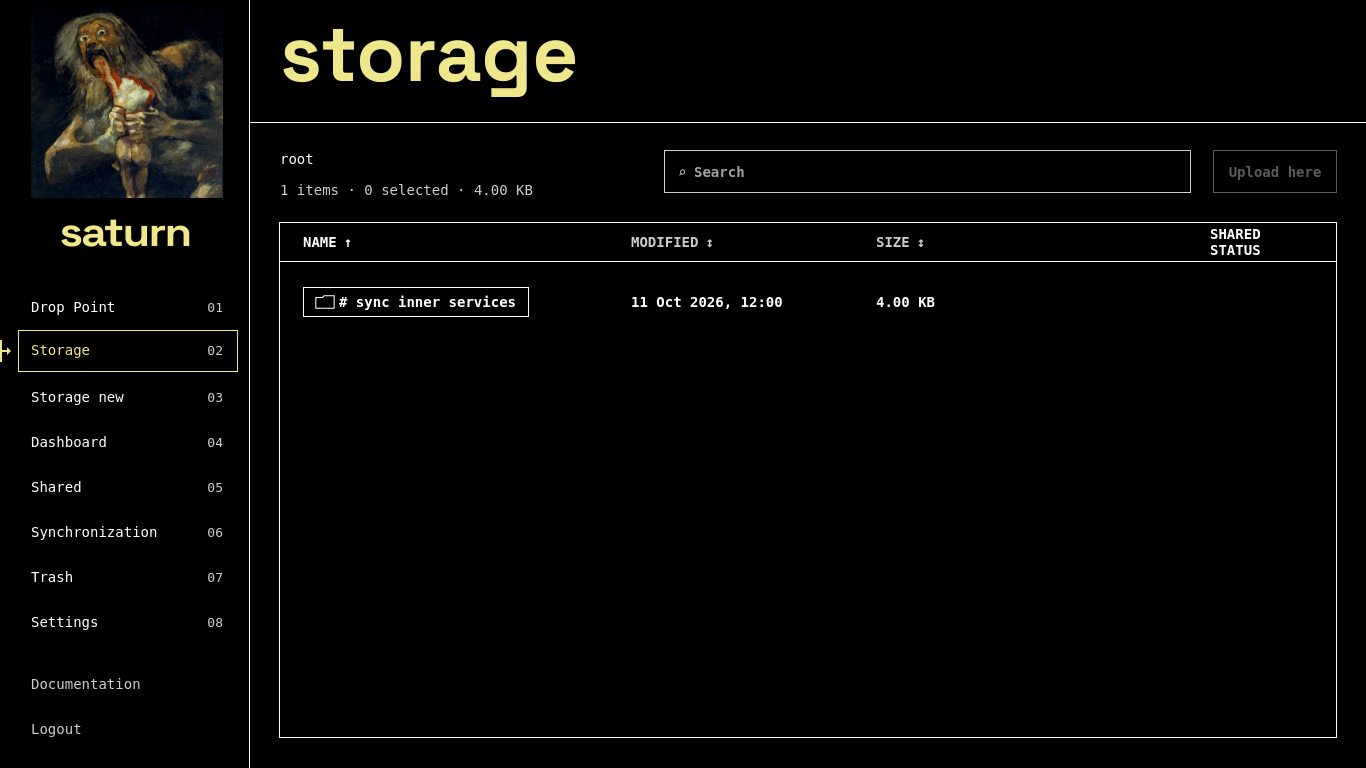
Test: Storage new › inserts its tab after Storage without resetting the saved navigation and keeps the original table
Expected: the heading "Storage" is shown, [280,15,578,91]
Expected: the element with class "storage-collection" is shown, [279,222,1337,738]
Click the button "Storage new 03" at [128, 396], box [18,375,238,417]
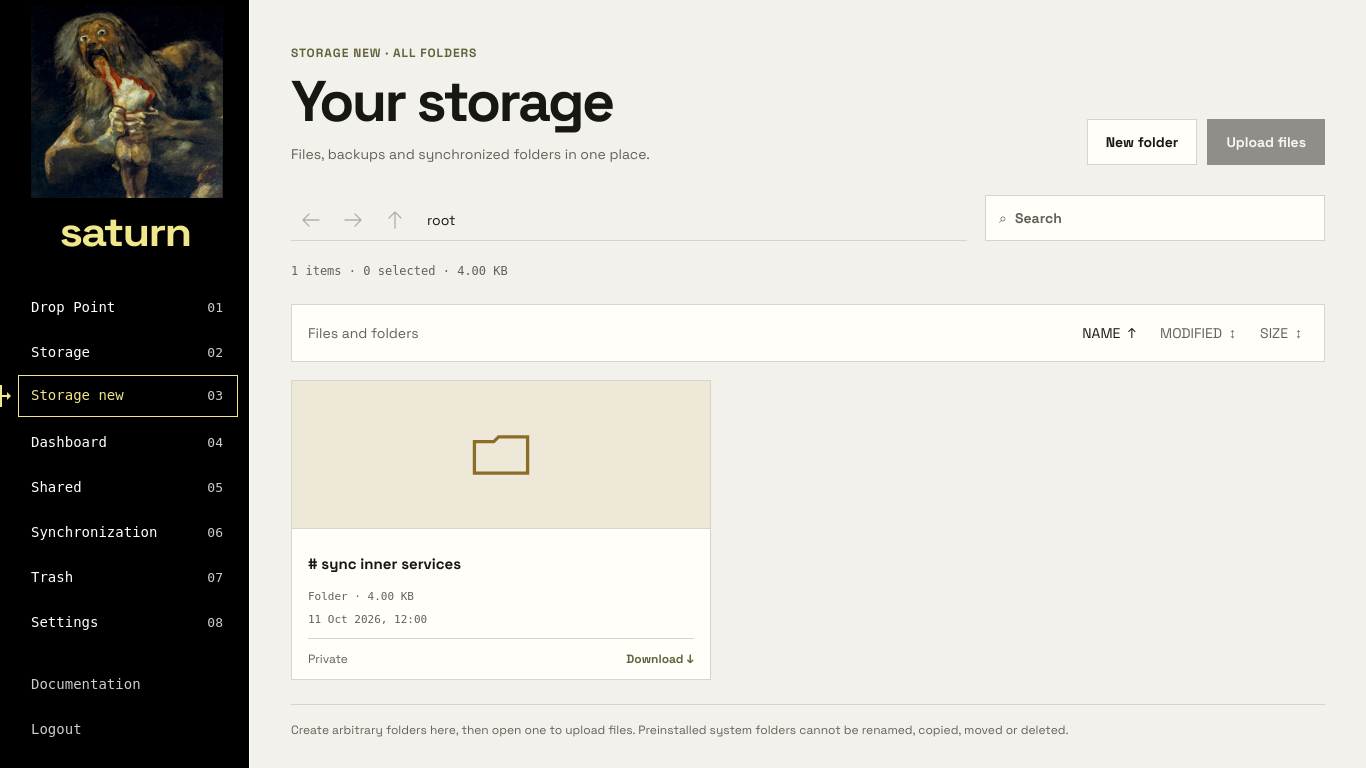
Expected: the heading "Your storage" is shown, [291,65,612,138]
Expected: the element with class "storage-collection" is gone
Click the button "Storage 02" at [128, 351], box [18,330,238,372]
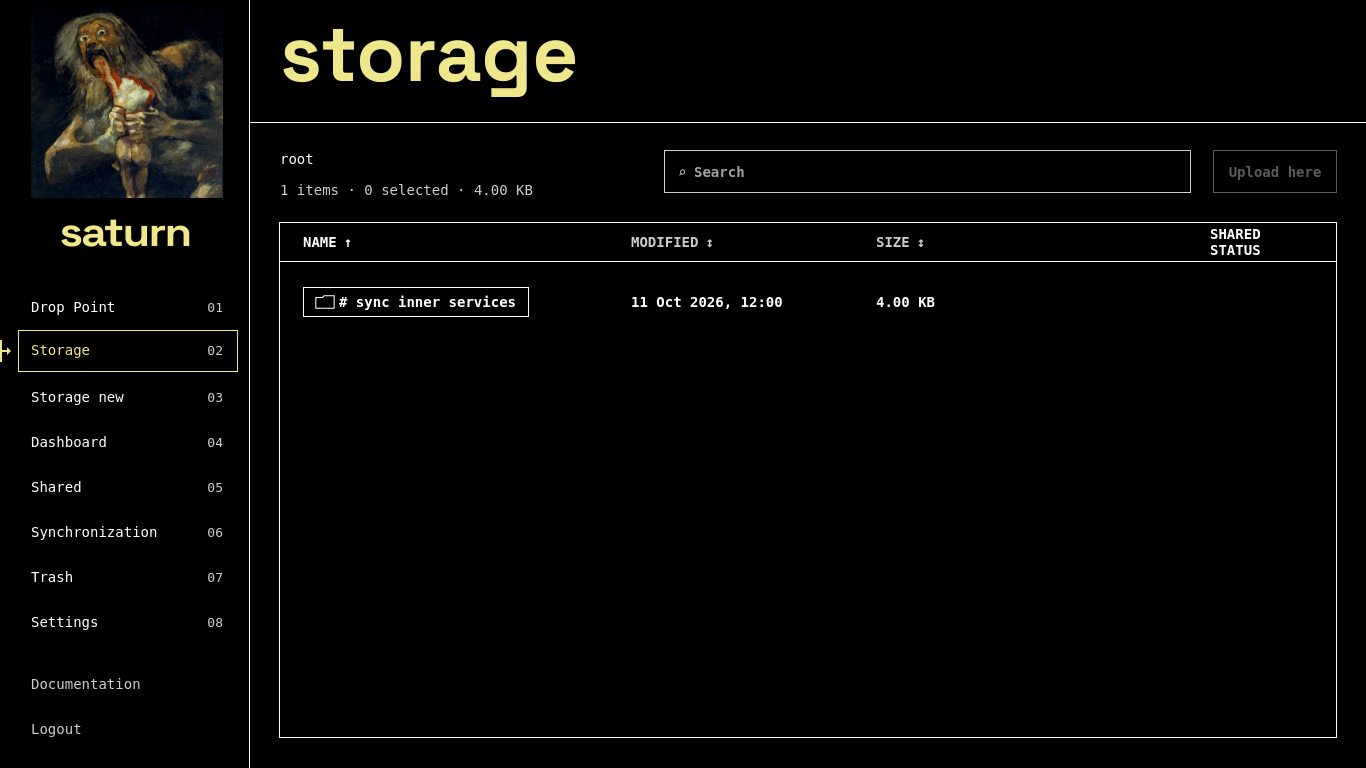
Expected: the heading "Storage" is shown, [280,15,578,91]
Expected: the element with class "storage-collection" is shown, [279,222,1337,738]
